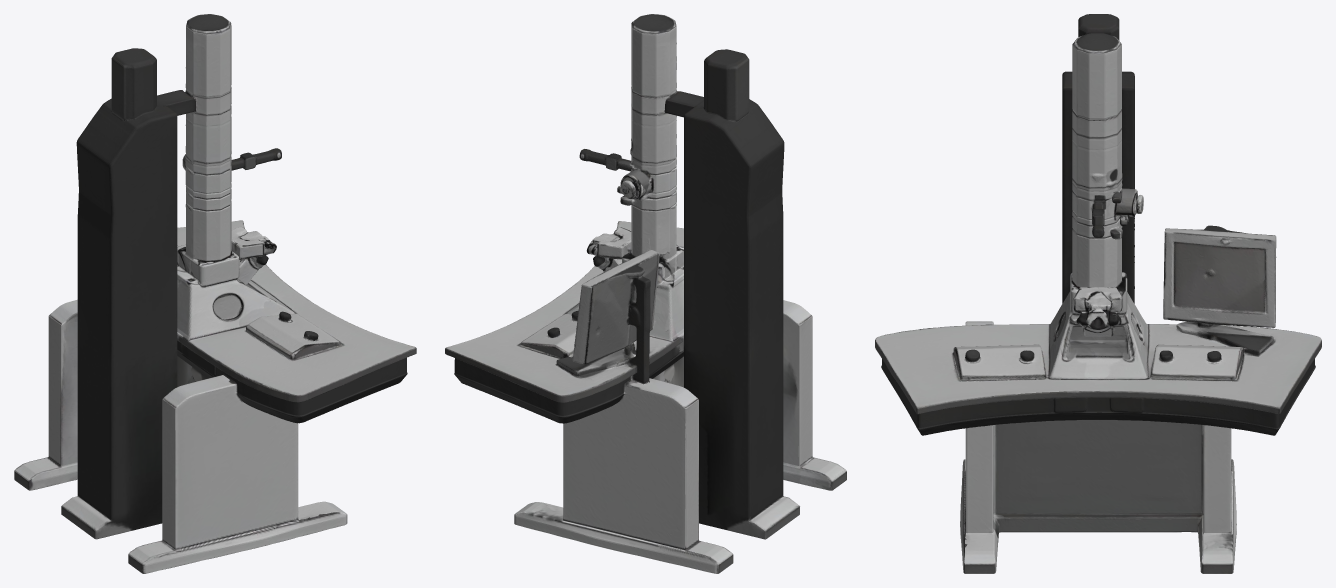
File: tem.glb
3 views of the same model, side by side, from view 1: azimuth 30°, elevation 25°; view 2: azimuth 150°, elevation 25°; view 3: azimuth 270°, elevation 25° (orthographic). The views are drawn at different scales.
Parts seen in each view (by area): view 1: tripo_node_cdb5a1b2-6bad-40a4-87f6-4098267b759c; view 2: tripo_node_cdb5a1b2-6bad-40a4-87f6-4098267b759c; view 3: tripo_node_cdb5a1b2-6bad-40a4-87f6-4098267b759c.
Boxes of the visible parts, x1,y1,x2,y2 form: tripo_node_cdb5a1b2-6bad-40a4-87f6-4098267b759c: (14, 14, 416, 573); tripo_node_cdb5a1b2-6bad-40a4-87f6-4098267b759c: (445, 14, 846, 573); tripo_node_cdb5a1b2-6bad-40a4-87f6-4098267b759c: (875, 14, 1321, 573).
Size of the model in its own units: 0.5566 by 1 by 0.8197.
1 material, 1 textured.
